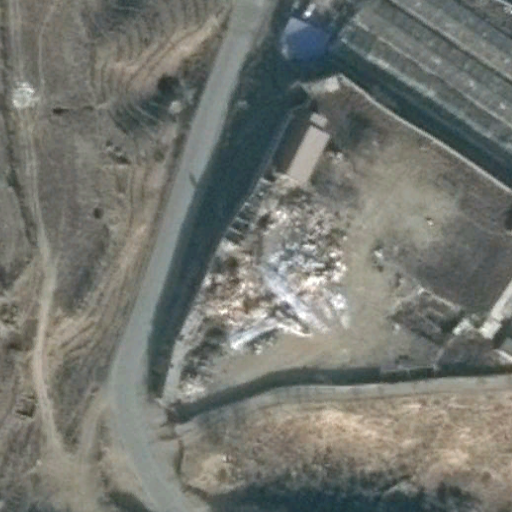msw: (195, 187, 352, 340)
